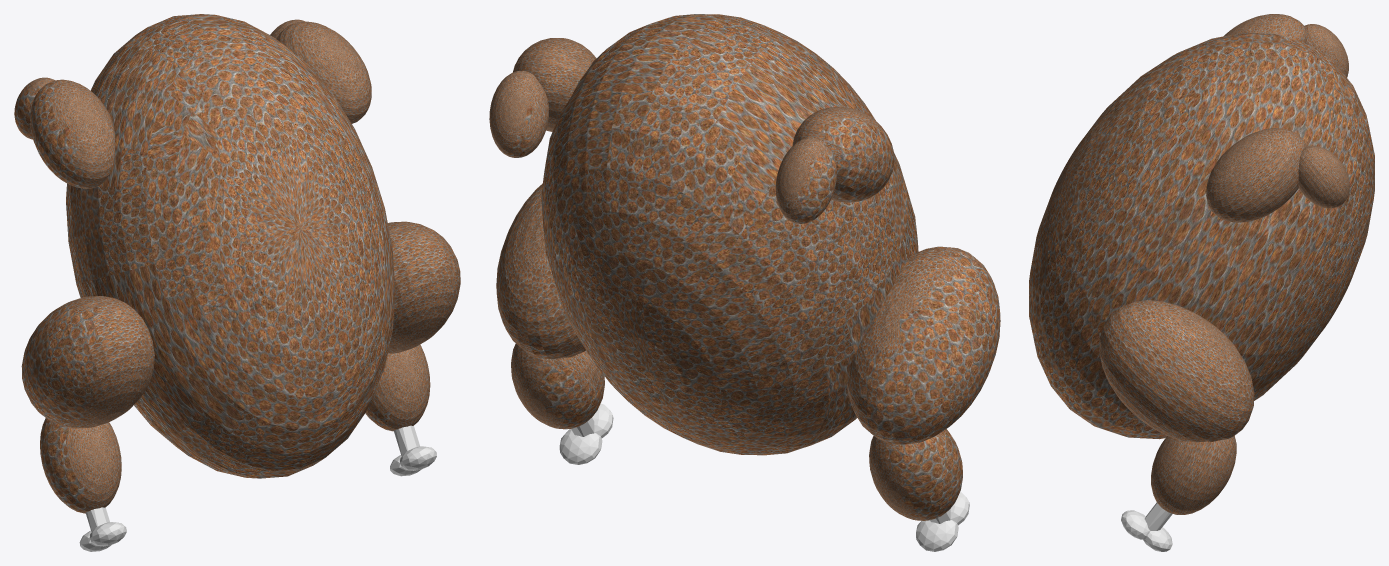
Rendered from Chicken.fbx.
3 views of the same model, side by side, from view 1: azimuth 30°, elevation 25°; view 2: azimuth 150°, elevation 25°; view 3: azimuth 270°, elevation 25° (orthographic). The views are drawn at different scales.
Visible parts, largest first — view 1: Chicken, Bone.003, Bone.001; view 2: Chicken, Bone.003, Bone.001; view 3: Chicken, Bone.003.
Part boxes in pixels (x1,y1,x2,y2): Chicken: [14, 14, 460, 513]; Bone.003: [390, 425, 436, 476]; Bone.001: [79, 507, 126, 551]; Chicken: [489, 14, 1000, 520]; Bone.003: [559, 403, 613, 464]; Bone.001: [916, 491, 969, 551]; Chicken: [1029, 14, 1374, 514]; Bone.003: [1121, 502, 1172, 551].
Size of the model in its own units: 93.77 by 98.13 by 70.74.
